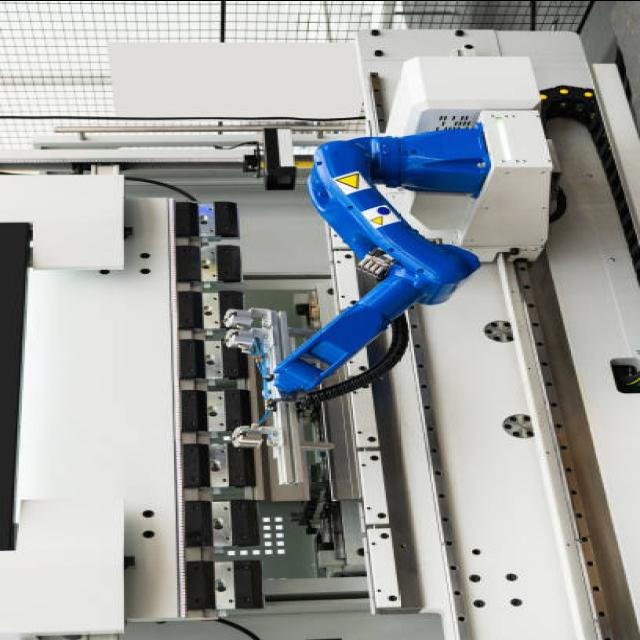Robotic-arm: (267, 109, 491, 413)
